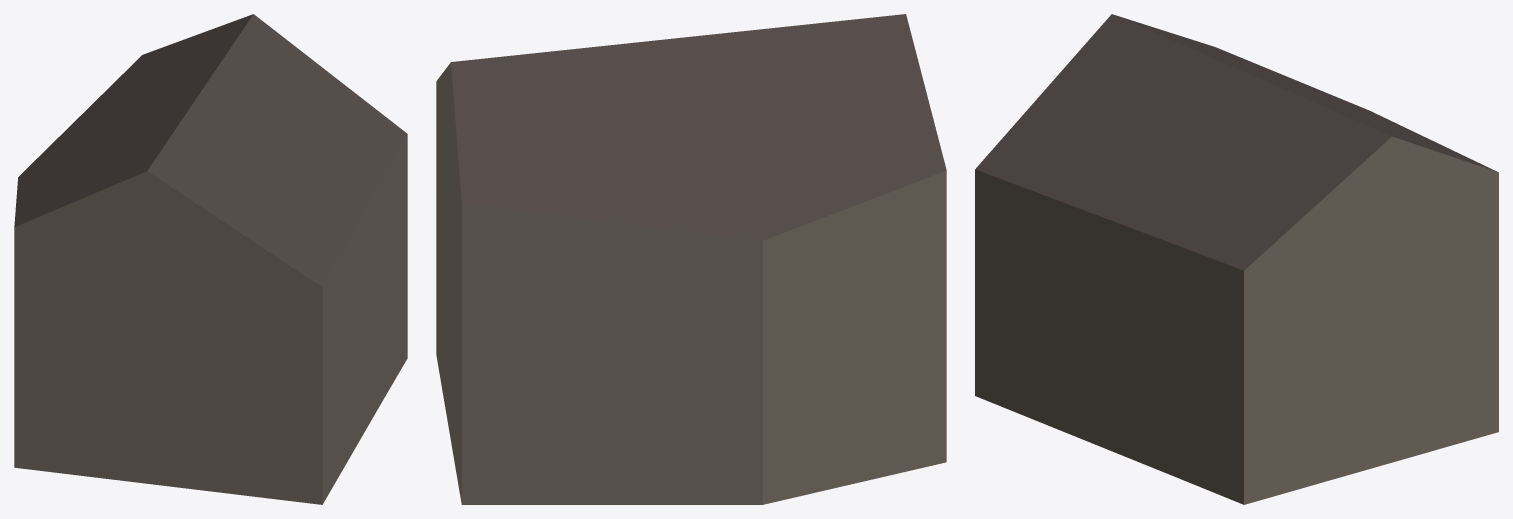
3 renders of one model, left to right at view 1: azimuth 30°, elevation 25°; view 2: azimuth 150°, elevation 25°; view 3: azimuth 270°, elevation 25°, orthographic. The views are drawn at different scales.
Parts seen in each view (by area): view 1: HP-w1513026726; view 2: HP-w1513026726; view 3: HP-w1513026726.
Part boxes in pixels (bbox=[...]): HP-w1513026726: bbox=[14, 14, 407, 504]; HP-w1513026726: bbox=[436, 14, 946, 504]; HP-w1513026726: bbox=[975, 14, 1498, 504].
Bounding box in the file's own units: 11.76 × 8.63 × 12.56.
